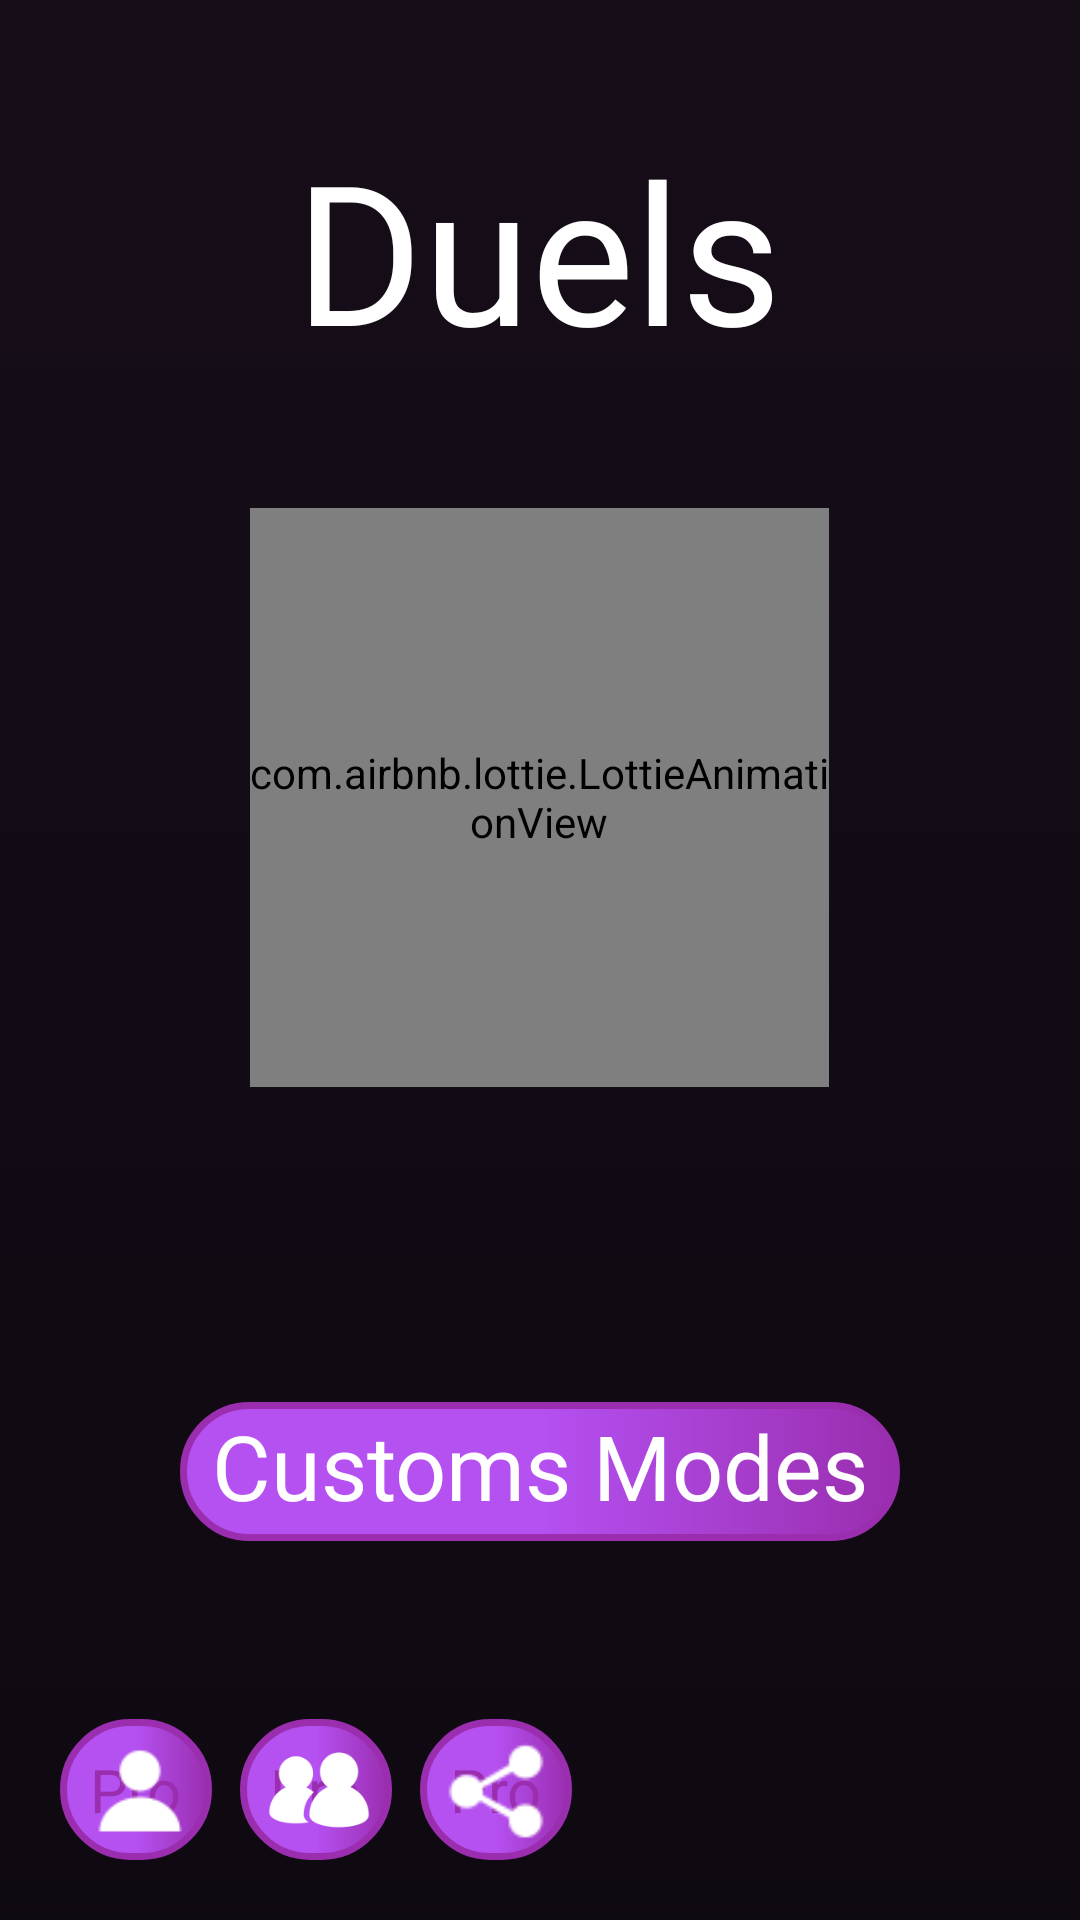

Named icons in this screenshot (1080*1920) and their centers, (x,y):
friends: (316,1789)
share: (496,1789)
user: (136,1789)
